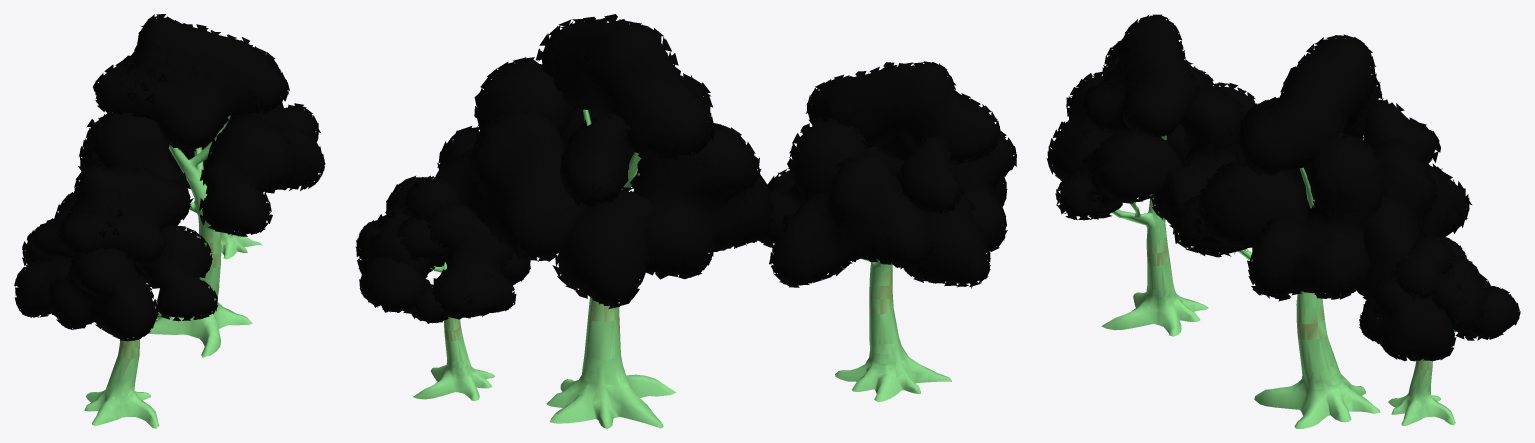
The model's file is SM_ENV_LKNVLD_TreeSet_K.gltf.
The picture shows the model from 3 angles, left to right: view 1: azimuth 30°, elevation 25°; view 2: azimuth 150°, elevation 25°; view 3: azimuth 270°, elevation 25°; orthographic projection. The views are drawn at different scales.
Parts seen in each view (by area): view 1: SM_ENV_LKNVLD_TreeSet_K; view 2: SM_ENV_LKNVLD_TreeSet_K; view 3: SM_ENV_LKNVLD_TreeSet_K.
Boxes of the visible parts, left/top/right/bottom form: SM_ENV_LKNVLD_TreeSet_K: left=14, top=14, right=325, bottom=428; SM_ENV_LKNVLD_TreeSet_K: left=355, top=14, right=1016, bottom=428; SM_ENV_LKNVLD_TreeSet_K: left=1046, top=14, right=1520, bottom=428.
Size of the model in its own units: 22.05 by 17.2 by 20.58.
